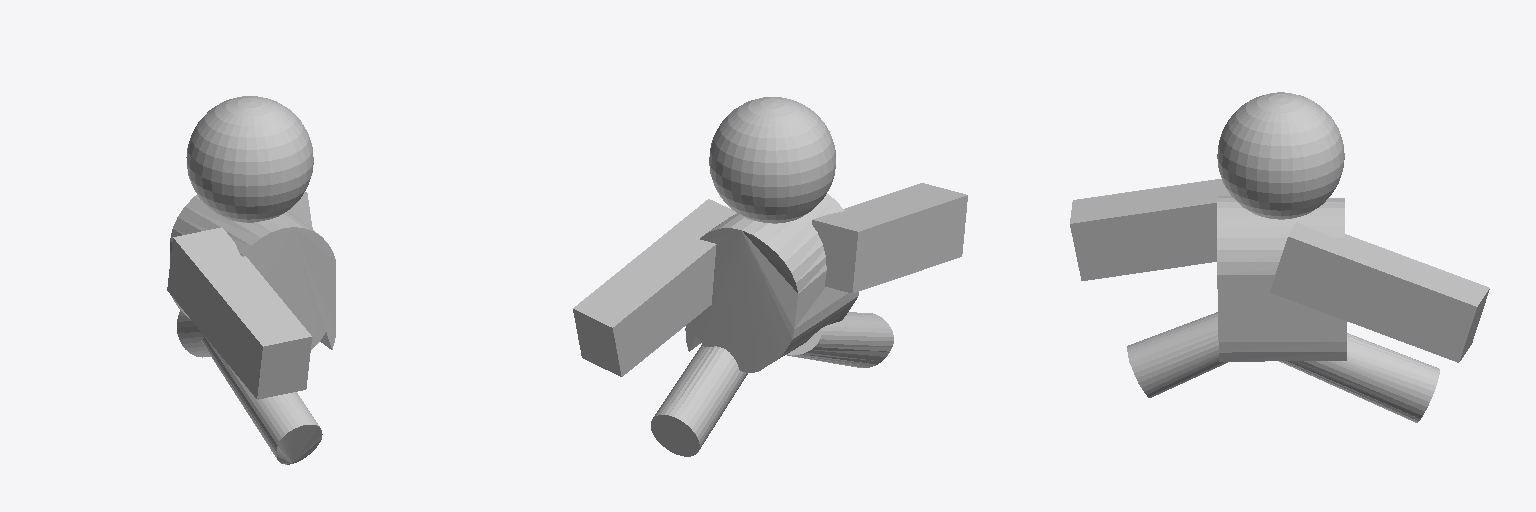
File: Figurine150.obj
The picture shows the model from 3 angles: view 1: azimuth 30°, elevation 25°; view 2: azimuth 150°, elevation 25°; view 3: azimuth 270°, elevation 25°; orthographic projection.
Parts seen in each view (by area): view 1: Cylinder; view 2: Cylinder; view 3: Cylinder.
Boxes of the visible parts, box(x1,y1,x2,y2) form: Cylinder: box(167, 96, 335, 464); Cylinder: box(573, 97, 967, 456); Cylinder: box(1070, 92, 1489, 422).
Bounding box in the file's own units: 3.49 × 5.36 × 6.59.